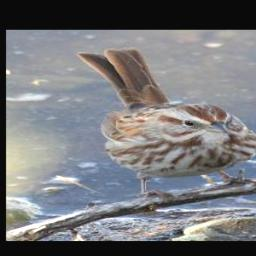Sparrow: (74, 46, 256, 205)
